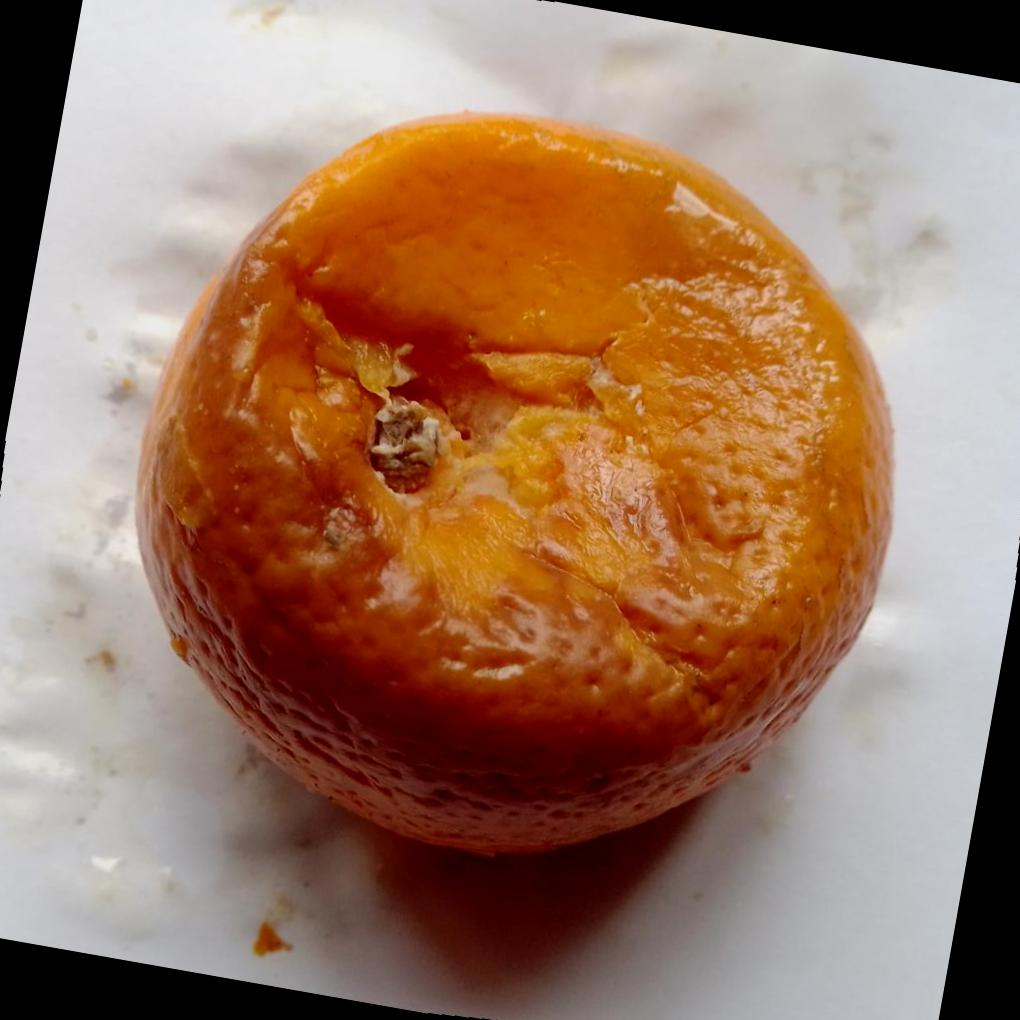FreshOrange: (136, 111, 898, 859)
